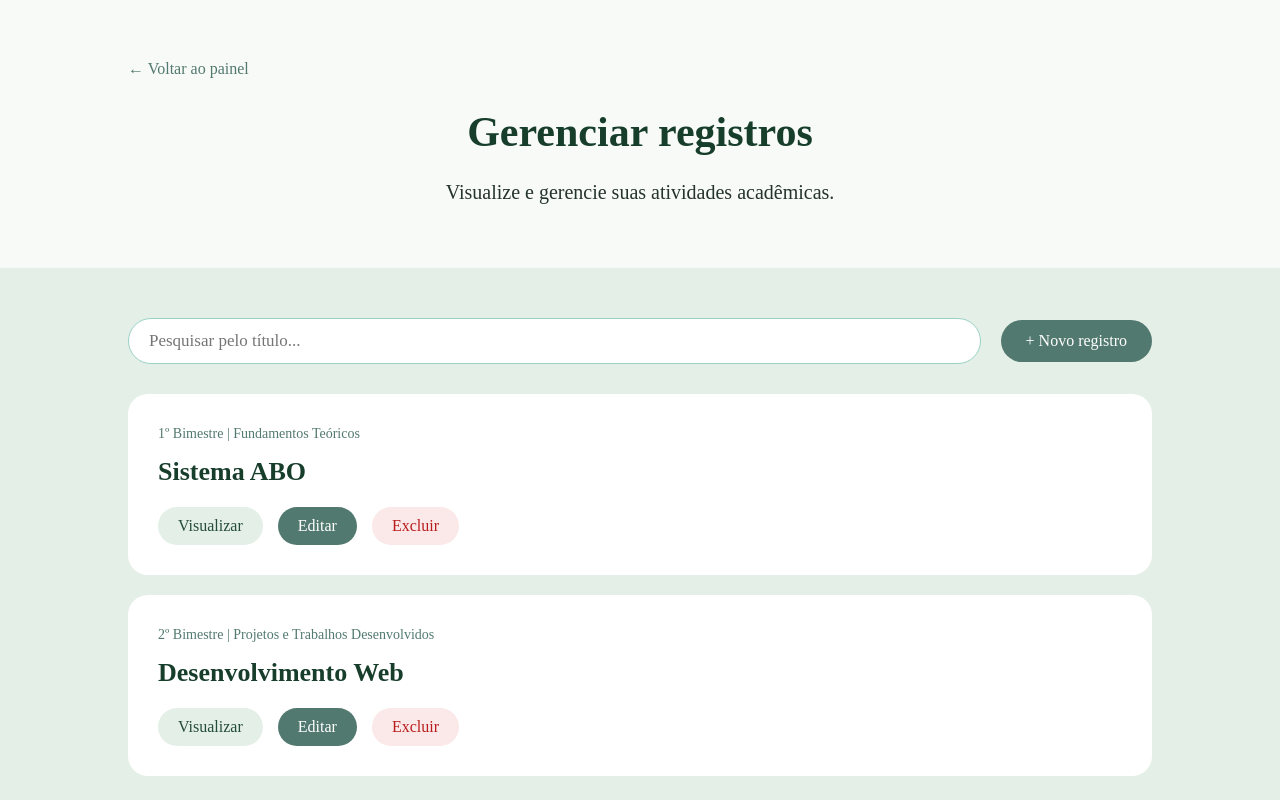
Scenario: Página GerenciarRegistros › Deve exibir mensagem de erro ao excluir registro
Click the button "Excluir" below "Sistema ABO" at [415, 526], box [372, 507, 459, 545]
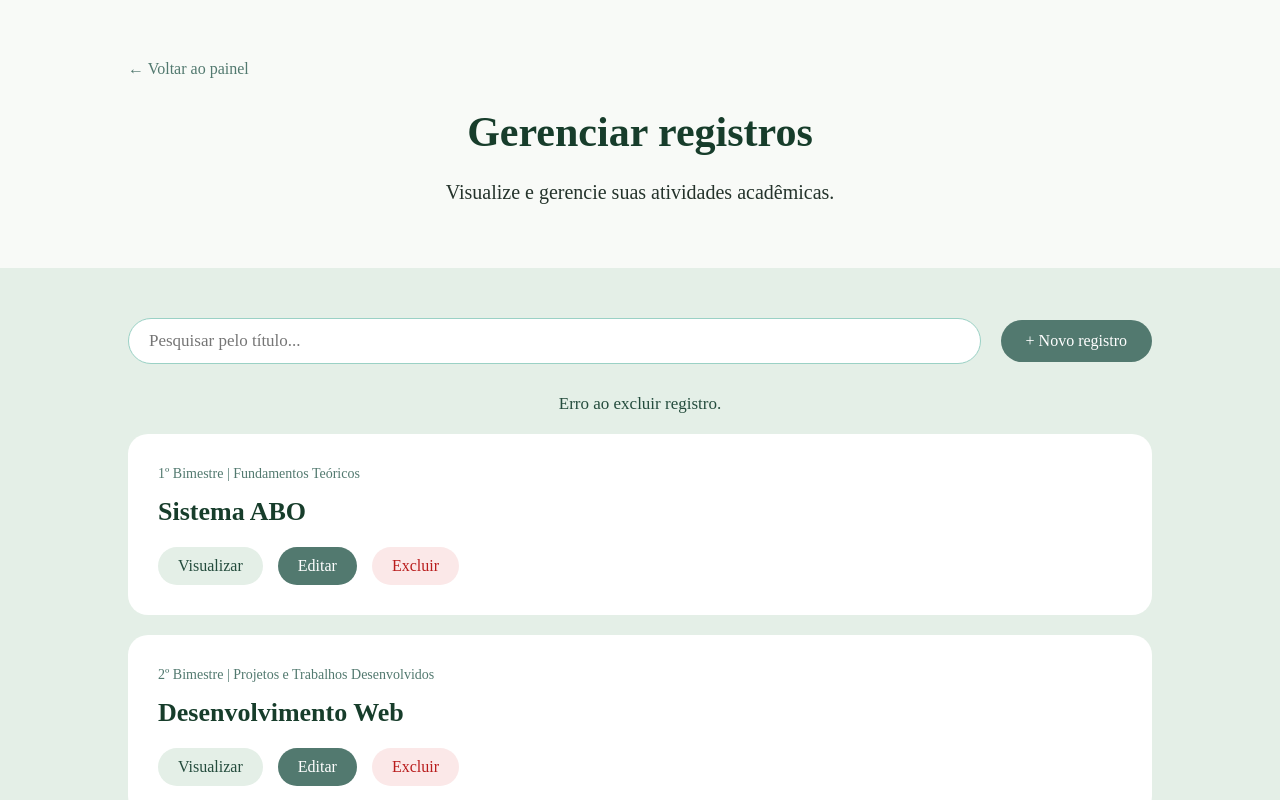
Check: the heading "Sistema ABO" is shown, box [158, 497, 306, 526]
Check: the message reads "Erro ao excluir registro.", box [559, 394, 721, 413]
